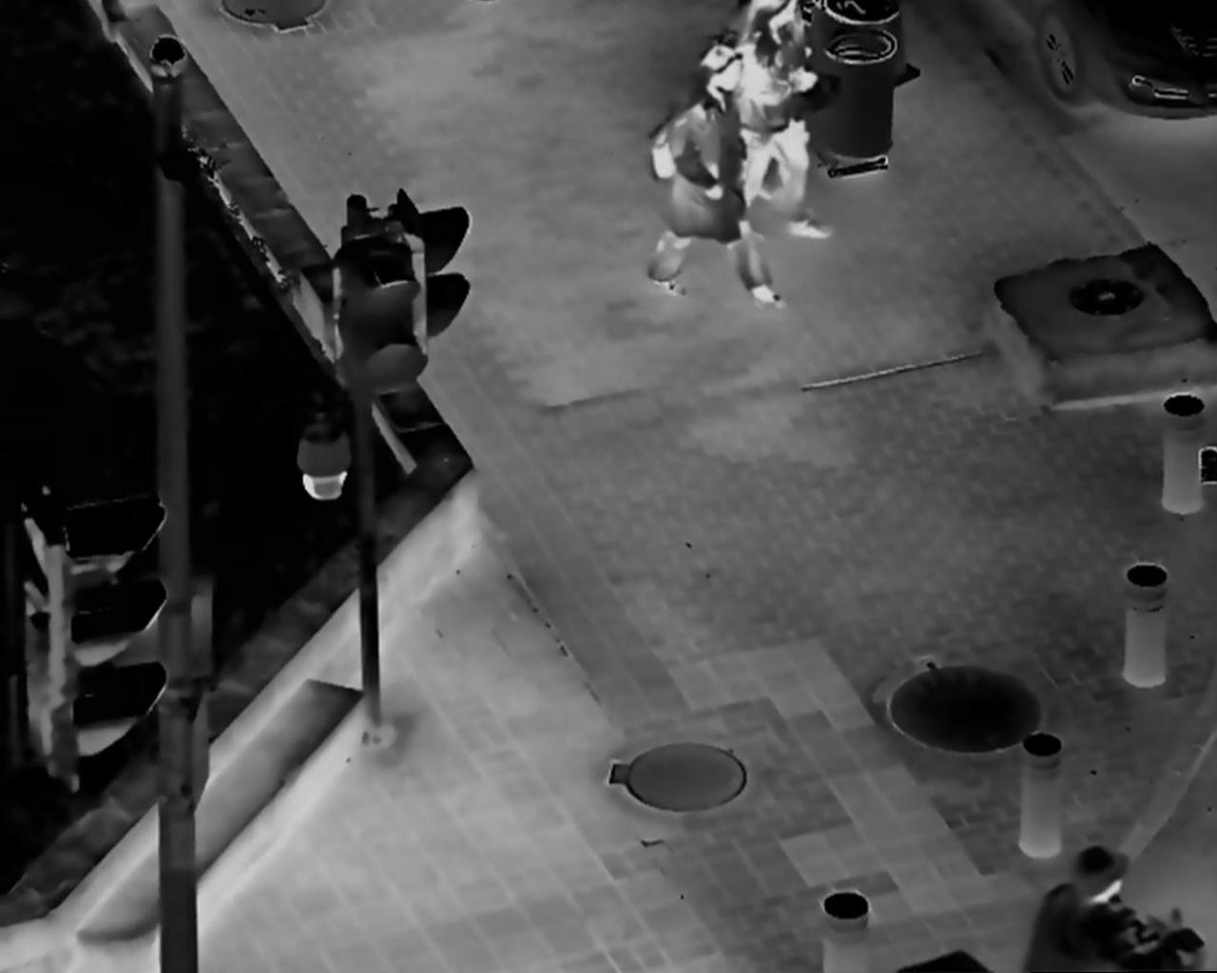person: (634, 40, 793, 315), (723, 9, 838, 242), (1023, 841, 1152, 973)
